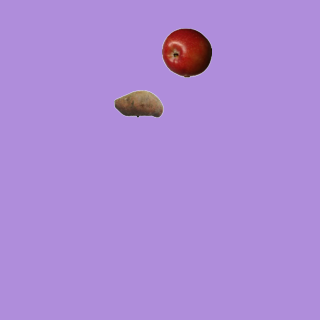Apple Braeburn: (161, 27, 211, 77)
Potato Sweet: (113, 78, 163, 128)
